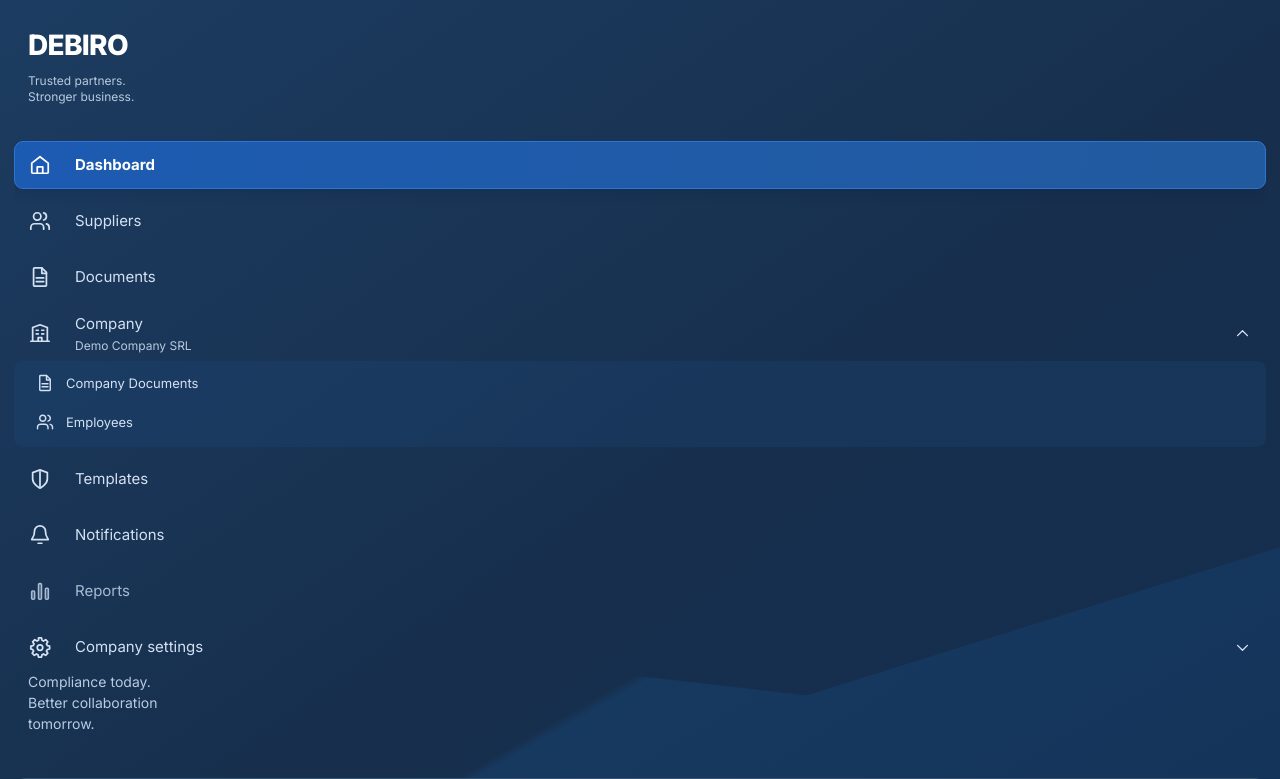
shared sidebar navigation availability › describes the Company parent while expanded or collapsed, without duplicating its identity in children in en
Expected: the text titled "Demo Company SRL" is shown, [75,338,192,353]
Click the button "Company Demo Company SRL" at (109, 324), box [14,309,1266,357]
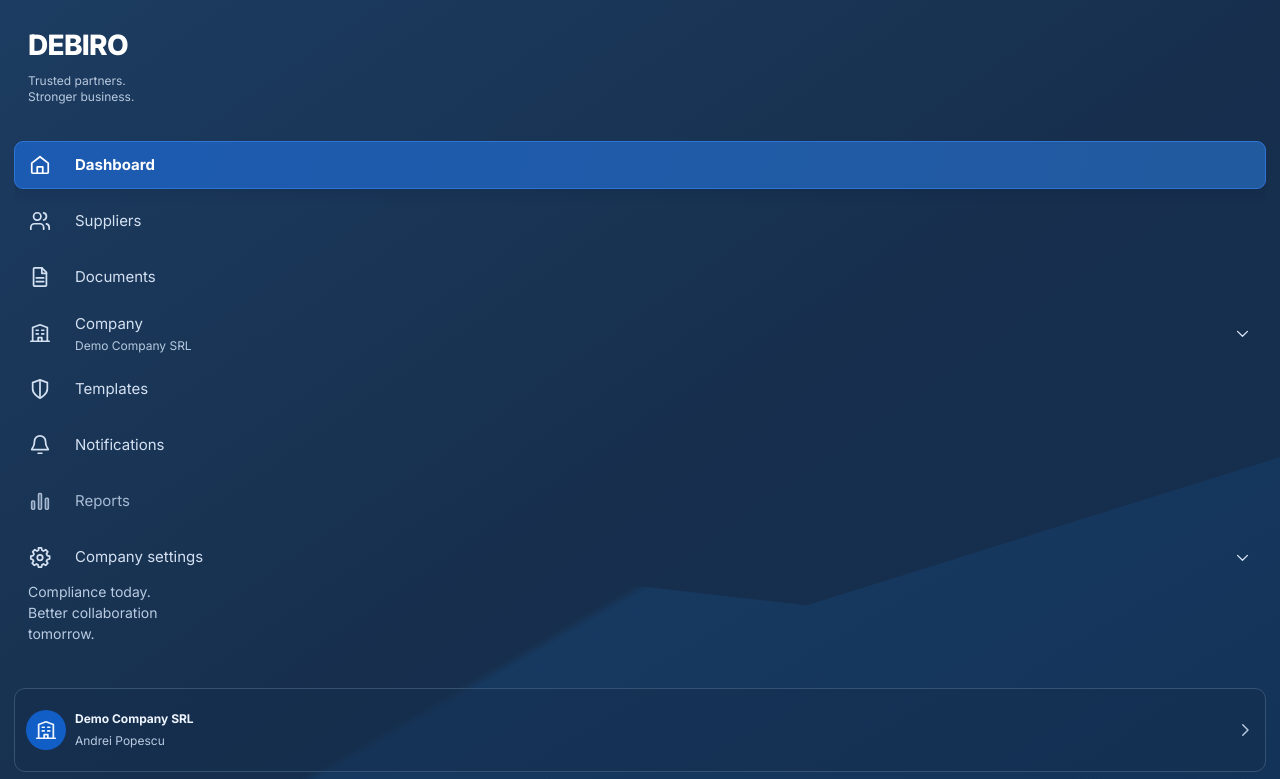
Expected: the text titled "Demo Company SRL" below "Documents" is shown, [75,338,192,353]
Now the button "Company Demo Company SRL" is collapsed
Now the link "Company Documents" is gone
Click the button "Company Demo Company SRL" at (109, 324), box [14,309,1266,357]
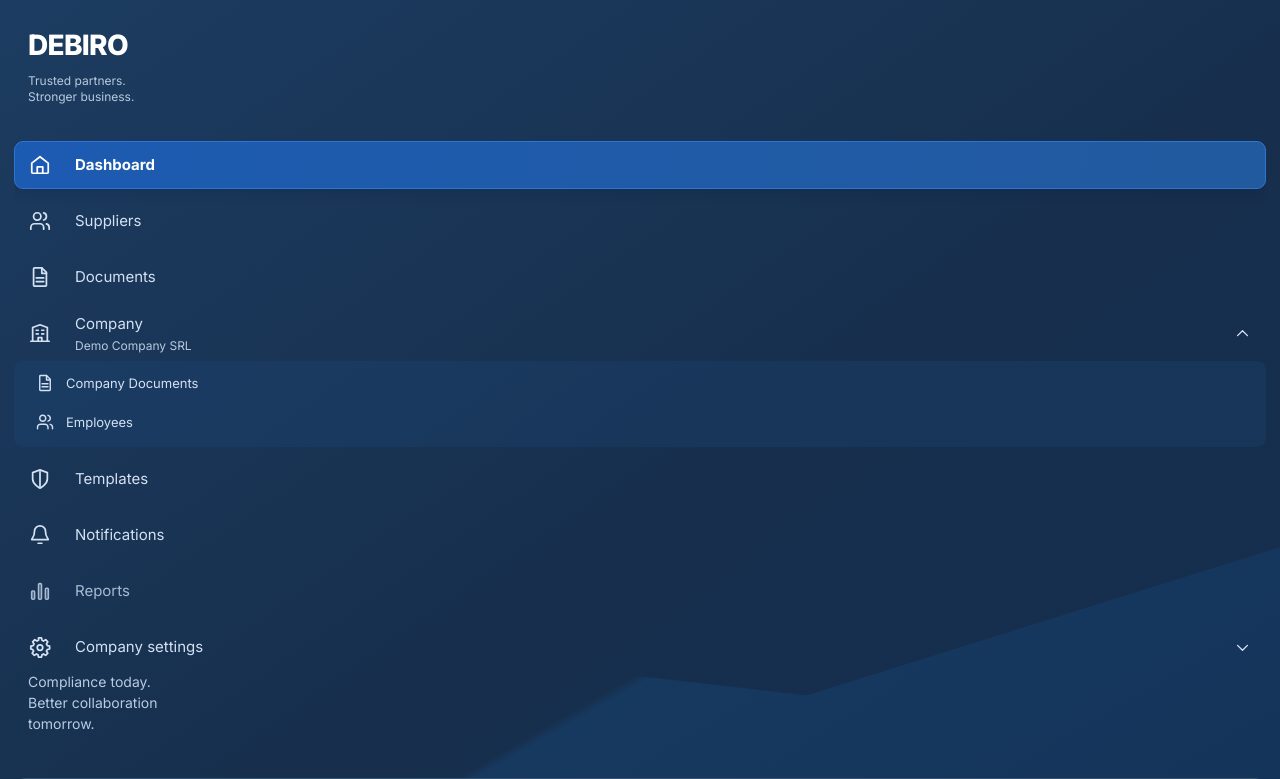
Now the button "Company Demo Company SRL" is expanded, box [14,309,1266,357]
